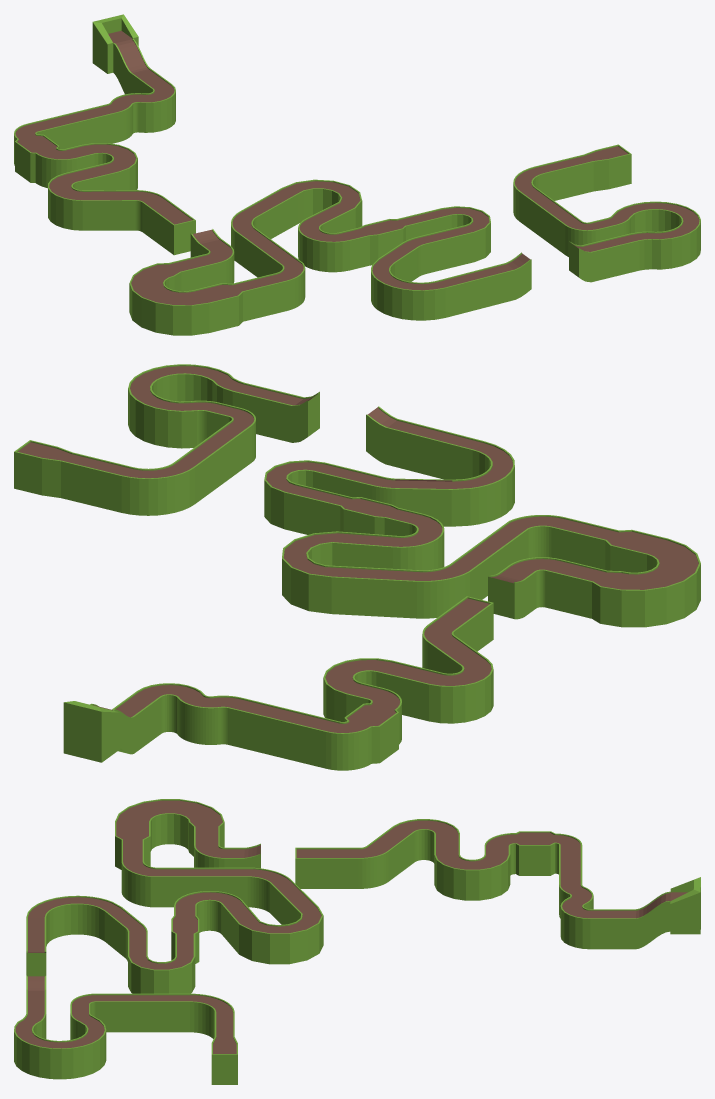
Rendered from trace2.fbx.
The picture shows the model from 3 angles, top to bottom: view 1: azimuth 30°, elevation 25°; view 2: azimuth 150°, elevation 25°; view 3: azimuth 270°, elevation 25°; orthographic projection. The views are drawn at different scales.
Parts seen in each view (by area): view 1: Plane.004; view 2: Plane.004; view 3: Plane.004.
Part boxes in pixels (<box>): Plane.004: <box>14,14,700,335</box>; Plane.004: <box>14,364,700,770</box>; Plane.004: <box>14,799,700,1084</box>.
Bounding box in the file's own units: 93825 × 10233 × 106557.
